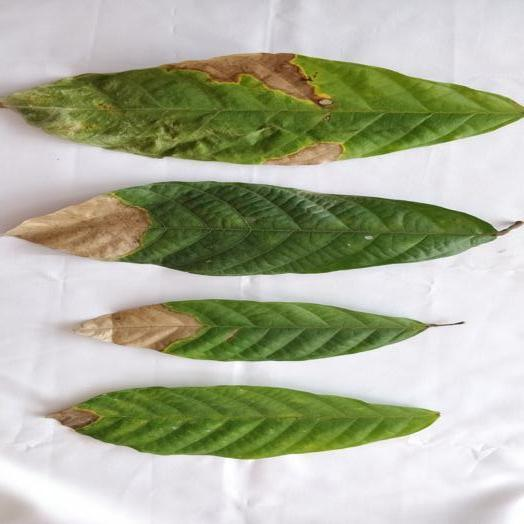Potassium: (1, 53, 523, 163), (11, 181, 520, 275), (52, 385, 438, 458), (75, 299, 460, 361)
